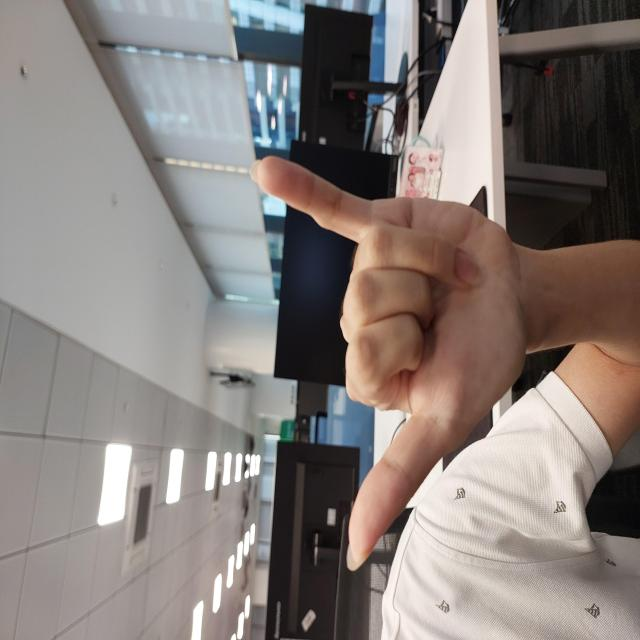Y: (70, 251, 487, 523)
